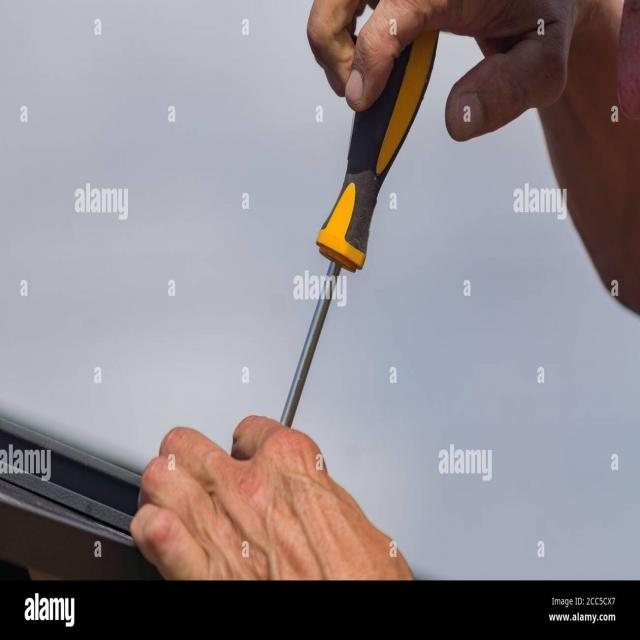screwdriver: (260, 8, 444, 463)
